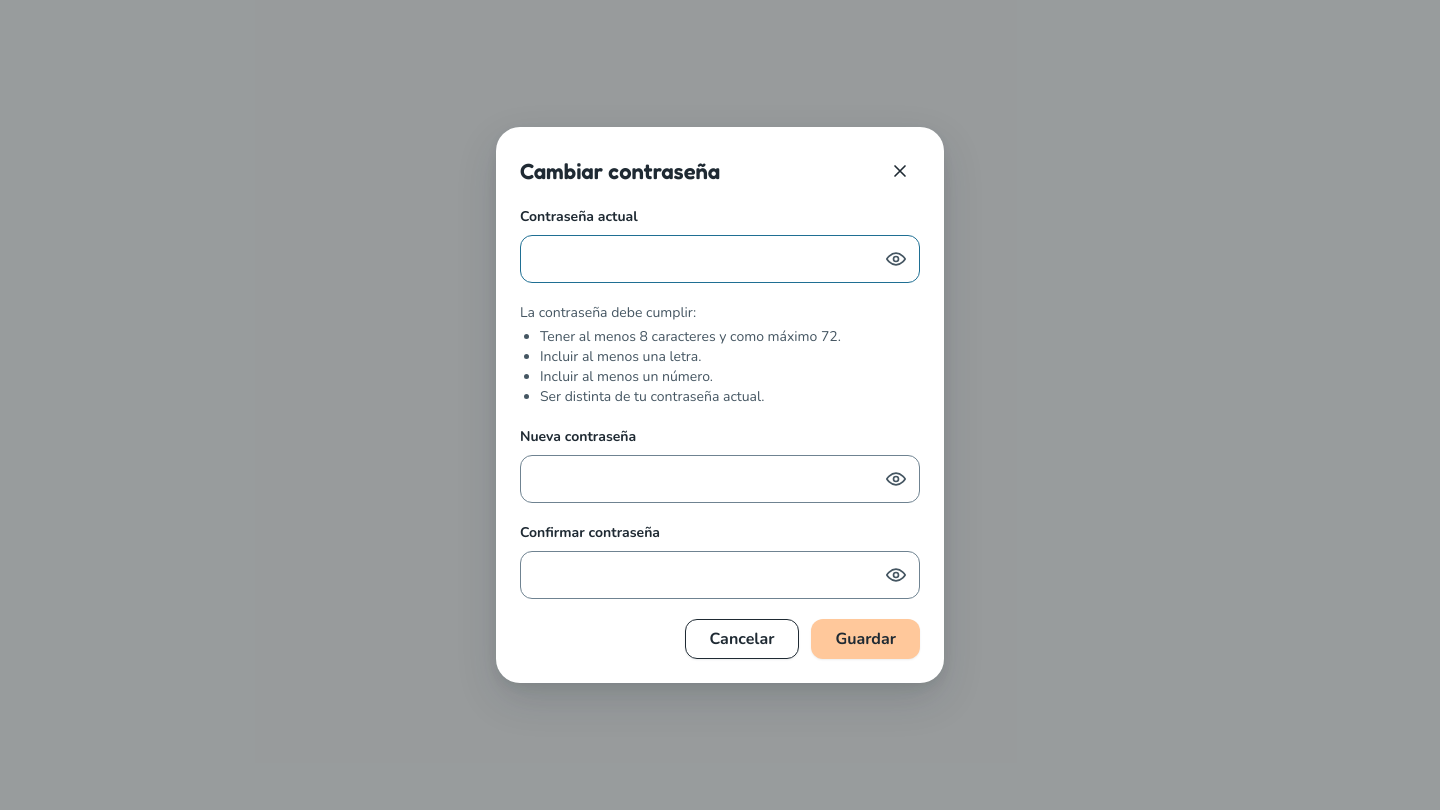
Test: ChangePasswordDialog › no envía si incumple las reglas o no coincide
This screenshot has width=1440, height=810.
Type "clave1234" into the password field labelled "Contraseña actual". click: [720, 259]
box: [520, 235, 920, 283]
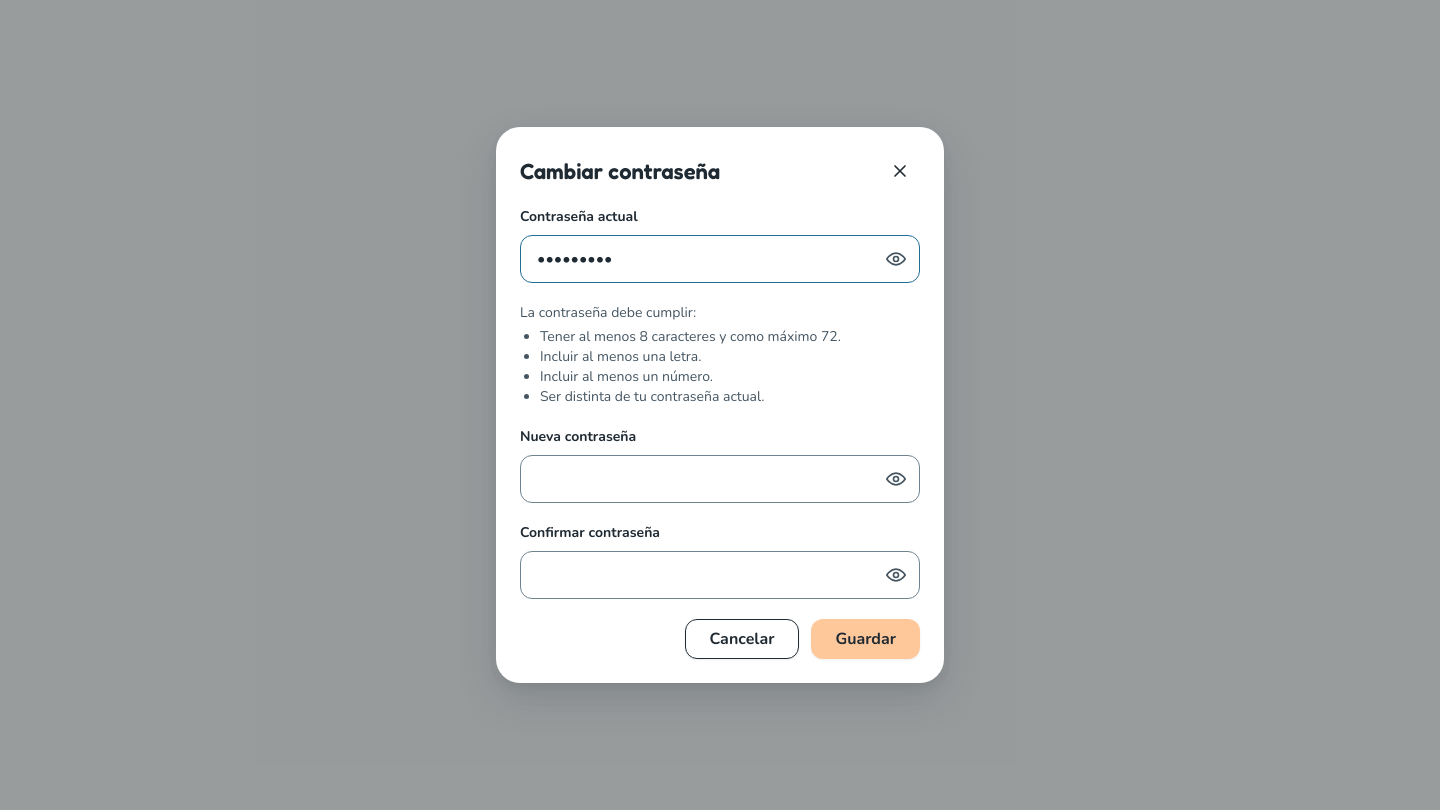
Type "corta" into the password field labelled "Nueva contraseña". click: [720, 479]
box: [520, 455, 920, 503]
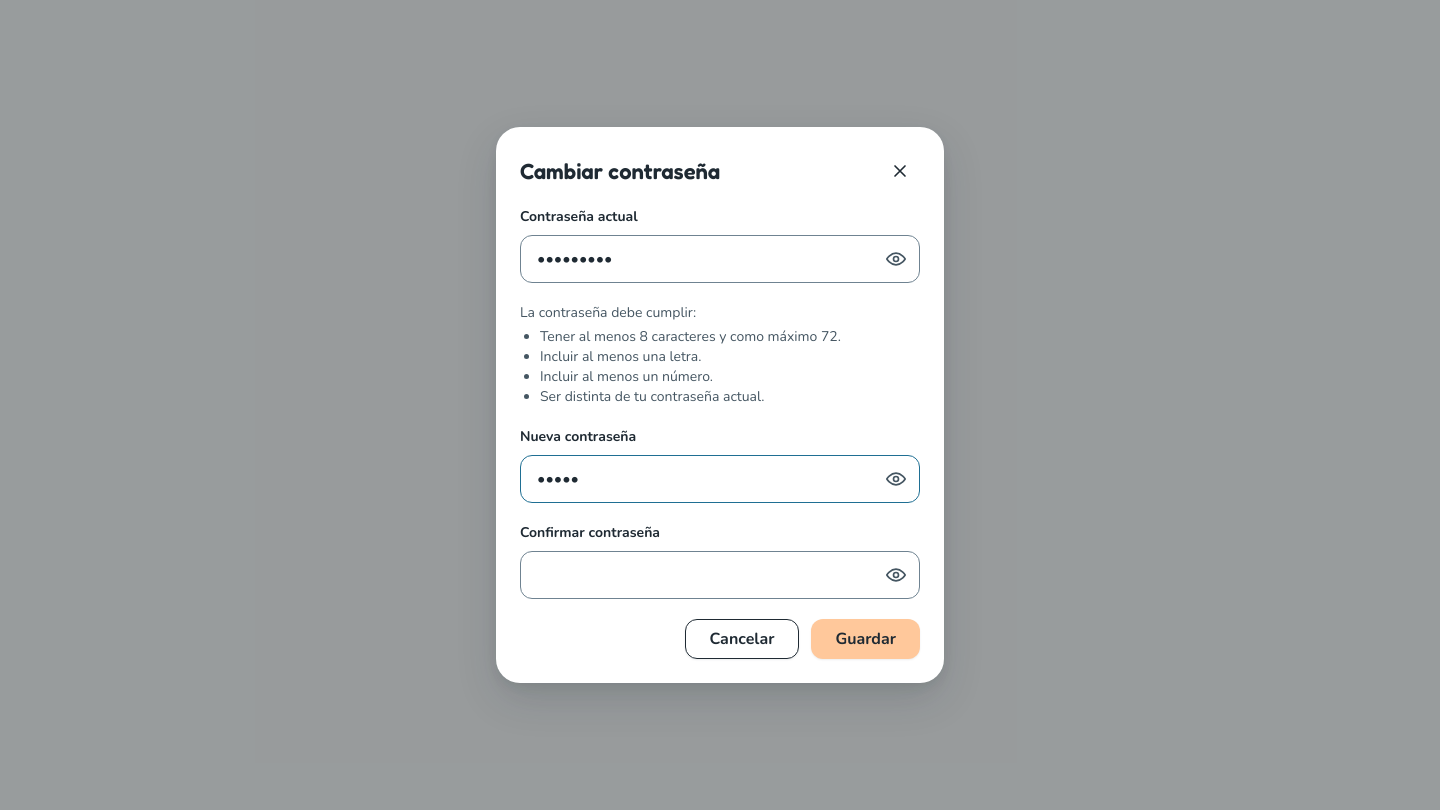
Type "otra" into the password field labelled "Confirmar contraseña". click: [720, 575]
box: [520, 551, 920, 599]
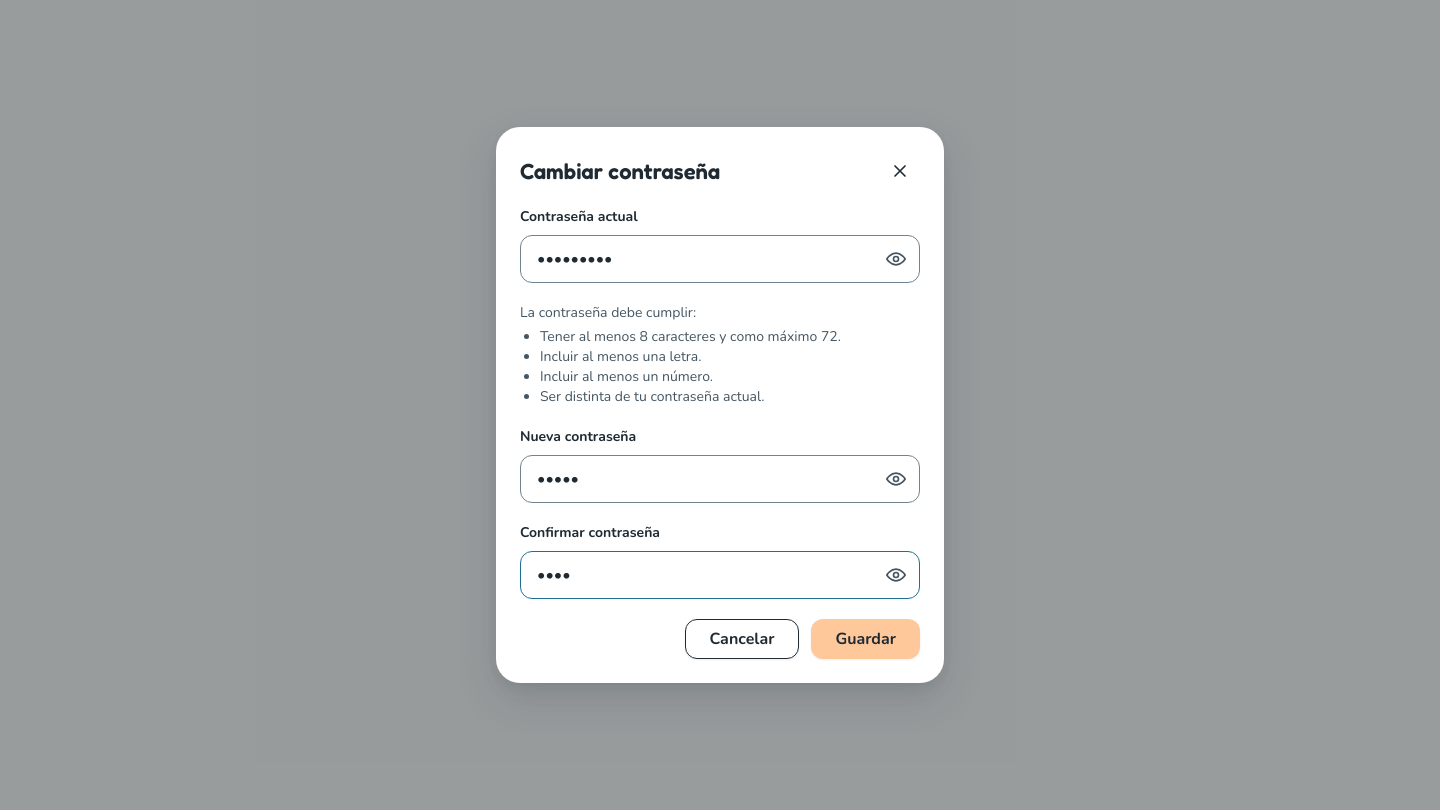
Click the button "Guardar". click: [866, 639]
box: [811, 619, 920, 659]
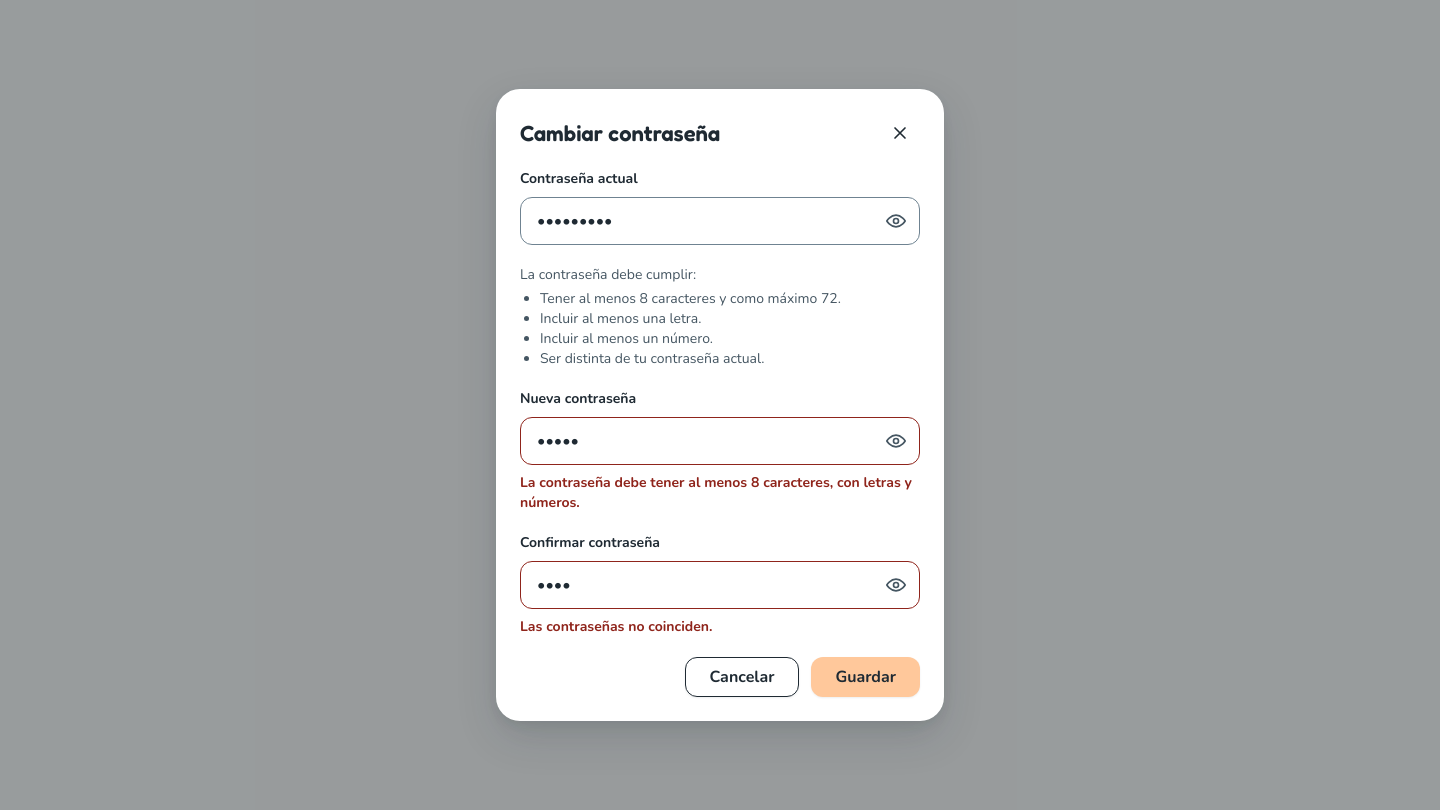
expect the text "La contraseña debe tener al menos 8 caracteres, con letras y números." is shown: met, box [520, 473, 920, 513]
expect the text "Las contraseñas no coinciden." is shown: met, box [520, 617, 712, 636]
